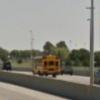buses: (32, 55, 62, 78)
